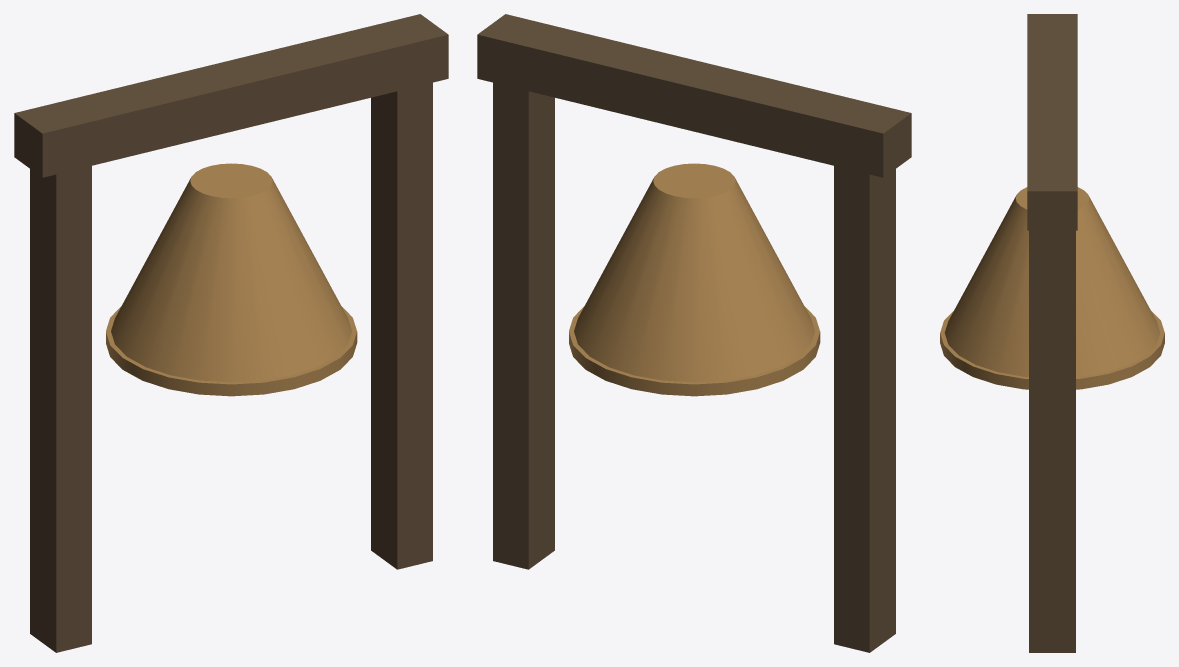
Rendered from tide-bell.glb.
The picture shows the model from 3 angles, left to right: view 1: azimuth 30°, elevation 25°; view 2: azimuth 150°, elevation 25°; view 3: azimuth 270°, elevation 25°; orthographic projection. The views are drawn at different scales.
Bounding box in the file's own units: 2.5 × 3.08 × 1.34.
